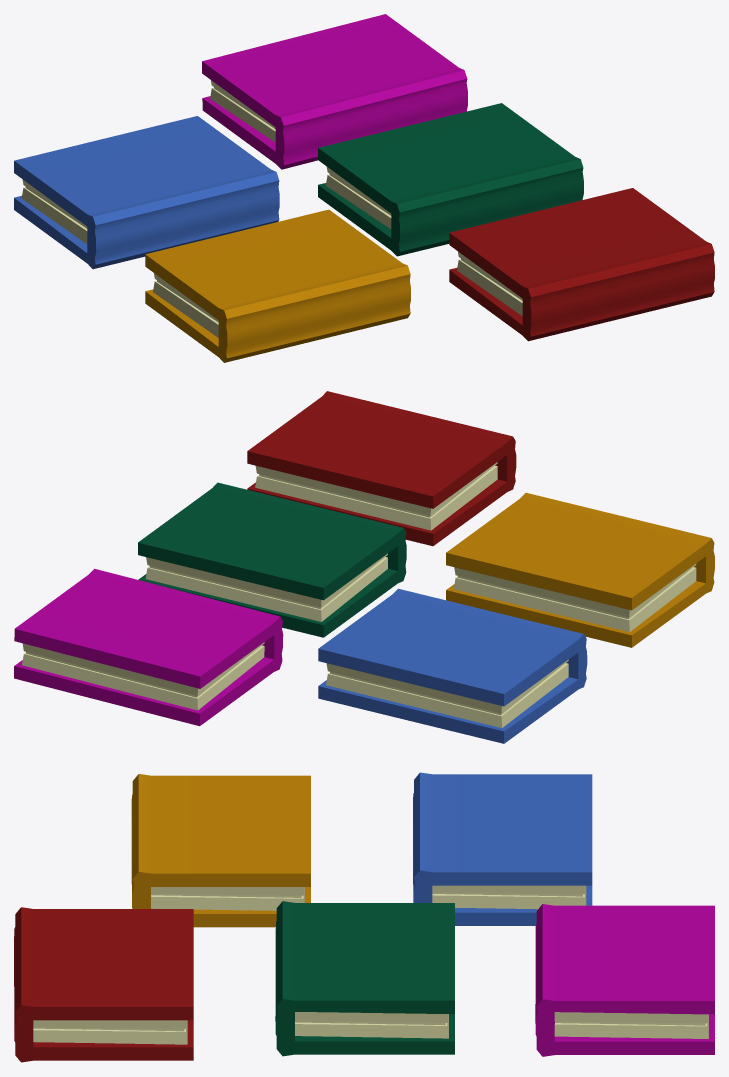
File: loose books.fbx
3 views of the same model, one above another, from view 1: azimuth 30°, elevation 25°; view 2: azimuth 150°, elevation 25°; view 3: azimuth 270°, elevation 25° (orthographic). The views are drawn at different scales.
Visible parts, largest first — view 1: oranje_boek, rood_boek, blauw_boek, groen_boek, paars_boek; view 2: paars_boek, blauw_boek, oranje_boek, groen_boek, rood_boek; view 3: rood_boek, groen_boek, paars_boek, oranje_boek, blauw_boek.
Part boxes in pixels (x1,y1,x2,y2): oranje_boek: [145, 209, 410, 362]; rood_boek: [449, 188, 714, 341]; blauw_boek: [14, 116, 279, 269]; groen_boek: [318, 103, 583, 256]; paars_boek: [202, 14, 467, 169]; paars_boek: [14, 568, 283, 726]; blauw_boek: [318, 588, 587, 743]; oranje_boek: [446, 492, 714, 647]; groen_boek: [138, 482, 406, 637]; rood_boek: [247, 391, 516, 546]; rood_boek: [14, 907, 193, 1062]; groen_boek: [275, 901, 454, 1056]; paars_boek: [535, 904, 714, 1056]; oranje_boek: [131, 774, 310, 927]; blauw_boek: [413, 772, 592, 925].
Bounding box in the file's own units: 5.52 × 0.6643 × 7.02.
